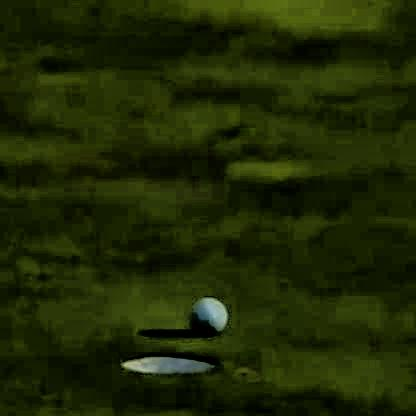golfball: (189, 293, 225, 332)
